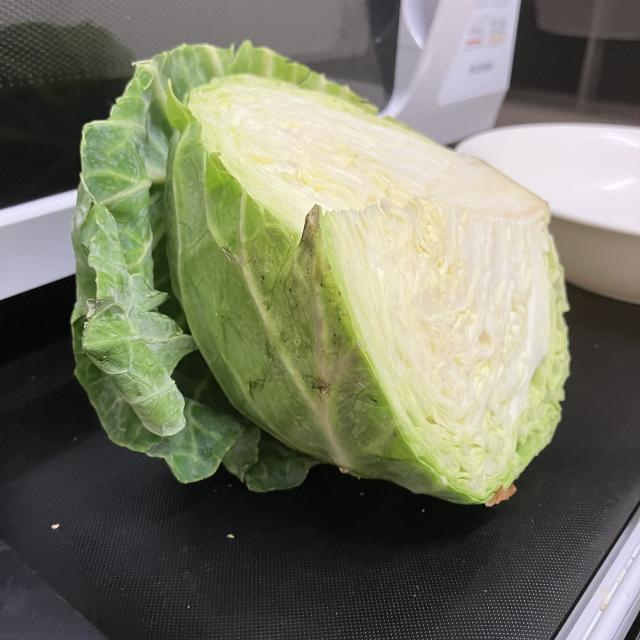haft-cabbage: (66, 36, 574, 513)
